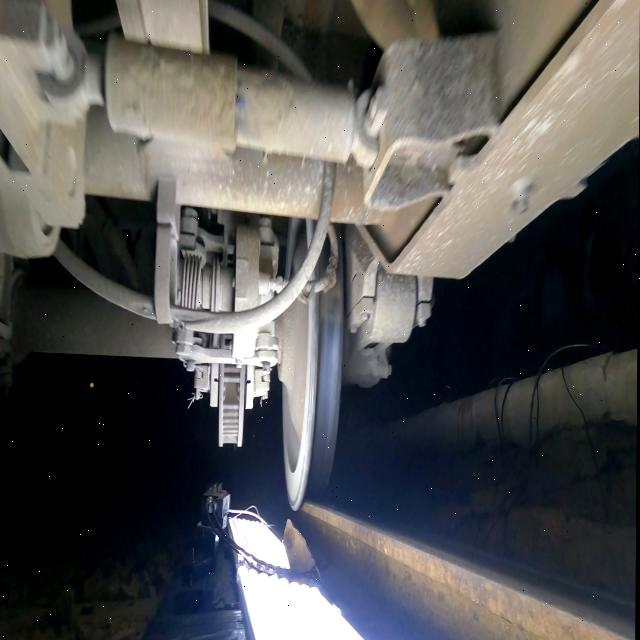Cracks-Scratches: (301, 350, 319, 496)
Shelling: (320, 247, 343, 325)
Wheel: (278, 242, 345, 510)
